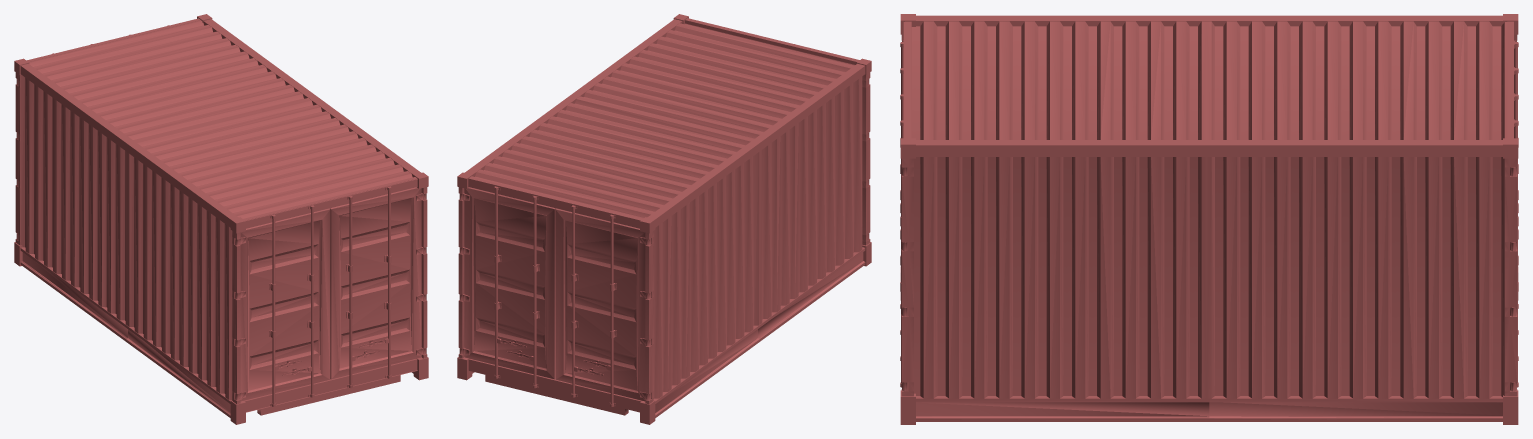
Rendered from shipping_container_med.fbx.
3 renders of one model, left to right at view 1: azimuth 30°, elevation 25°; view 2: azimuth 150°, elevation 25°; view 3: azimuth 270°, elevation 25°, orthographic. The views are drawn at different scales.
Parts seen in each view (by area): view 1: shipping_container_med; view 2: shipping_container_med; view 3: shipping_container_med.
Boxes of the visible parts, box(x1,y1,x2,y2) form: shipping_container_med: box(14, 14, 428, 424); shipping_container_med: box(457, 14, 871, 424); shipping_container_med: box(900, 14, 1518, 424).
Size of the model in its own units: 192 by 192 by 384.
